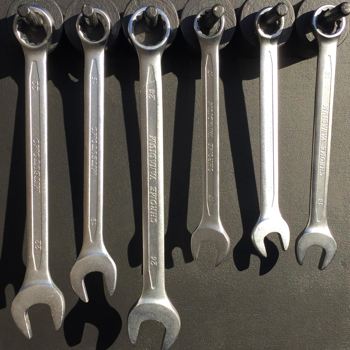bottom: (8, 278, 66, 340), (124, 295, 181, 350), (66, 249, 121, 303), (188, 221, 233, 269), (295, 225, 337, 271), (251, 215, 291, 257)
top: (10, 3, 57, 56), (123, 4, 172, 54), (73, 5, 114, 49), (191, 5, 229, 47), (252, 3, 289, 43), (310, 2, 347, 41)
